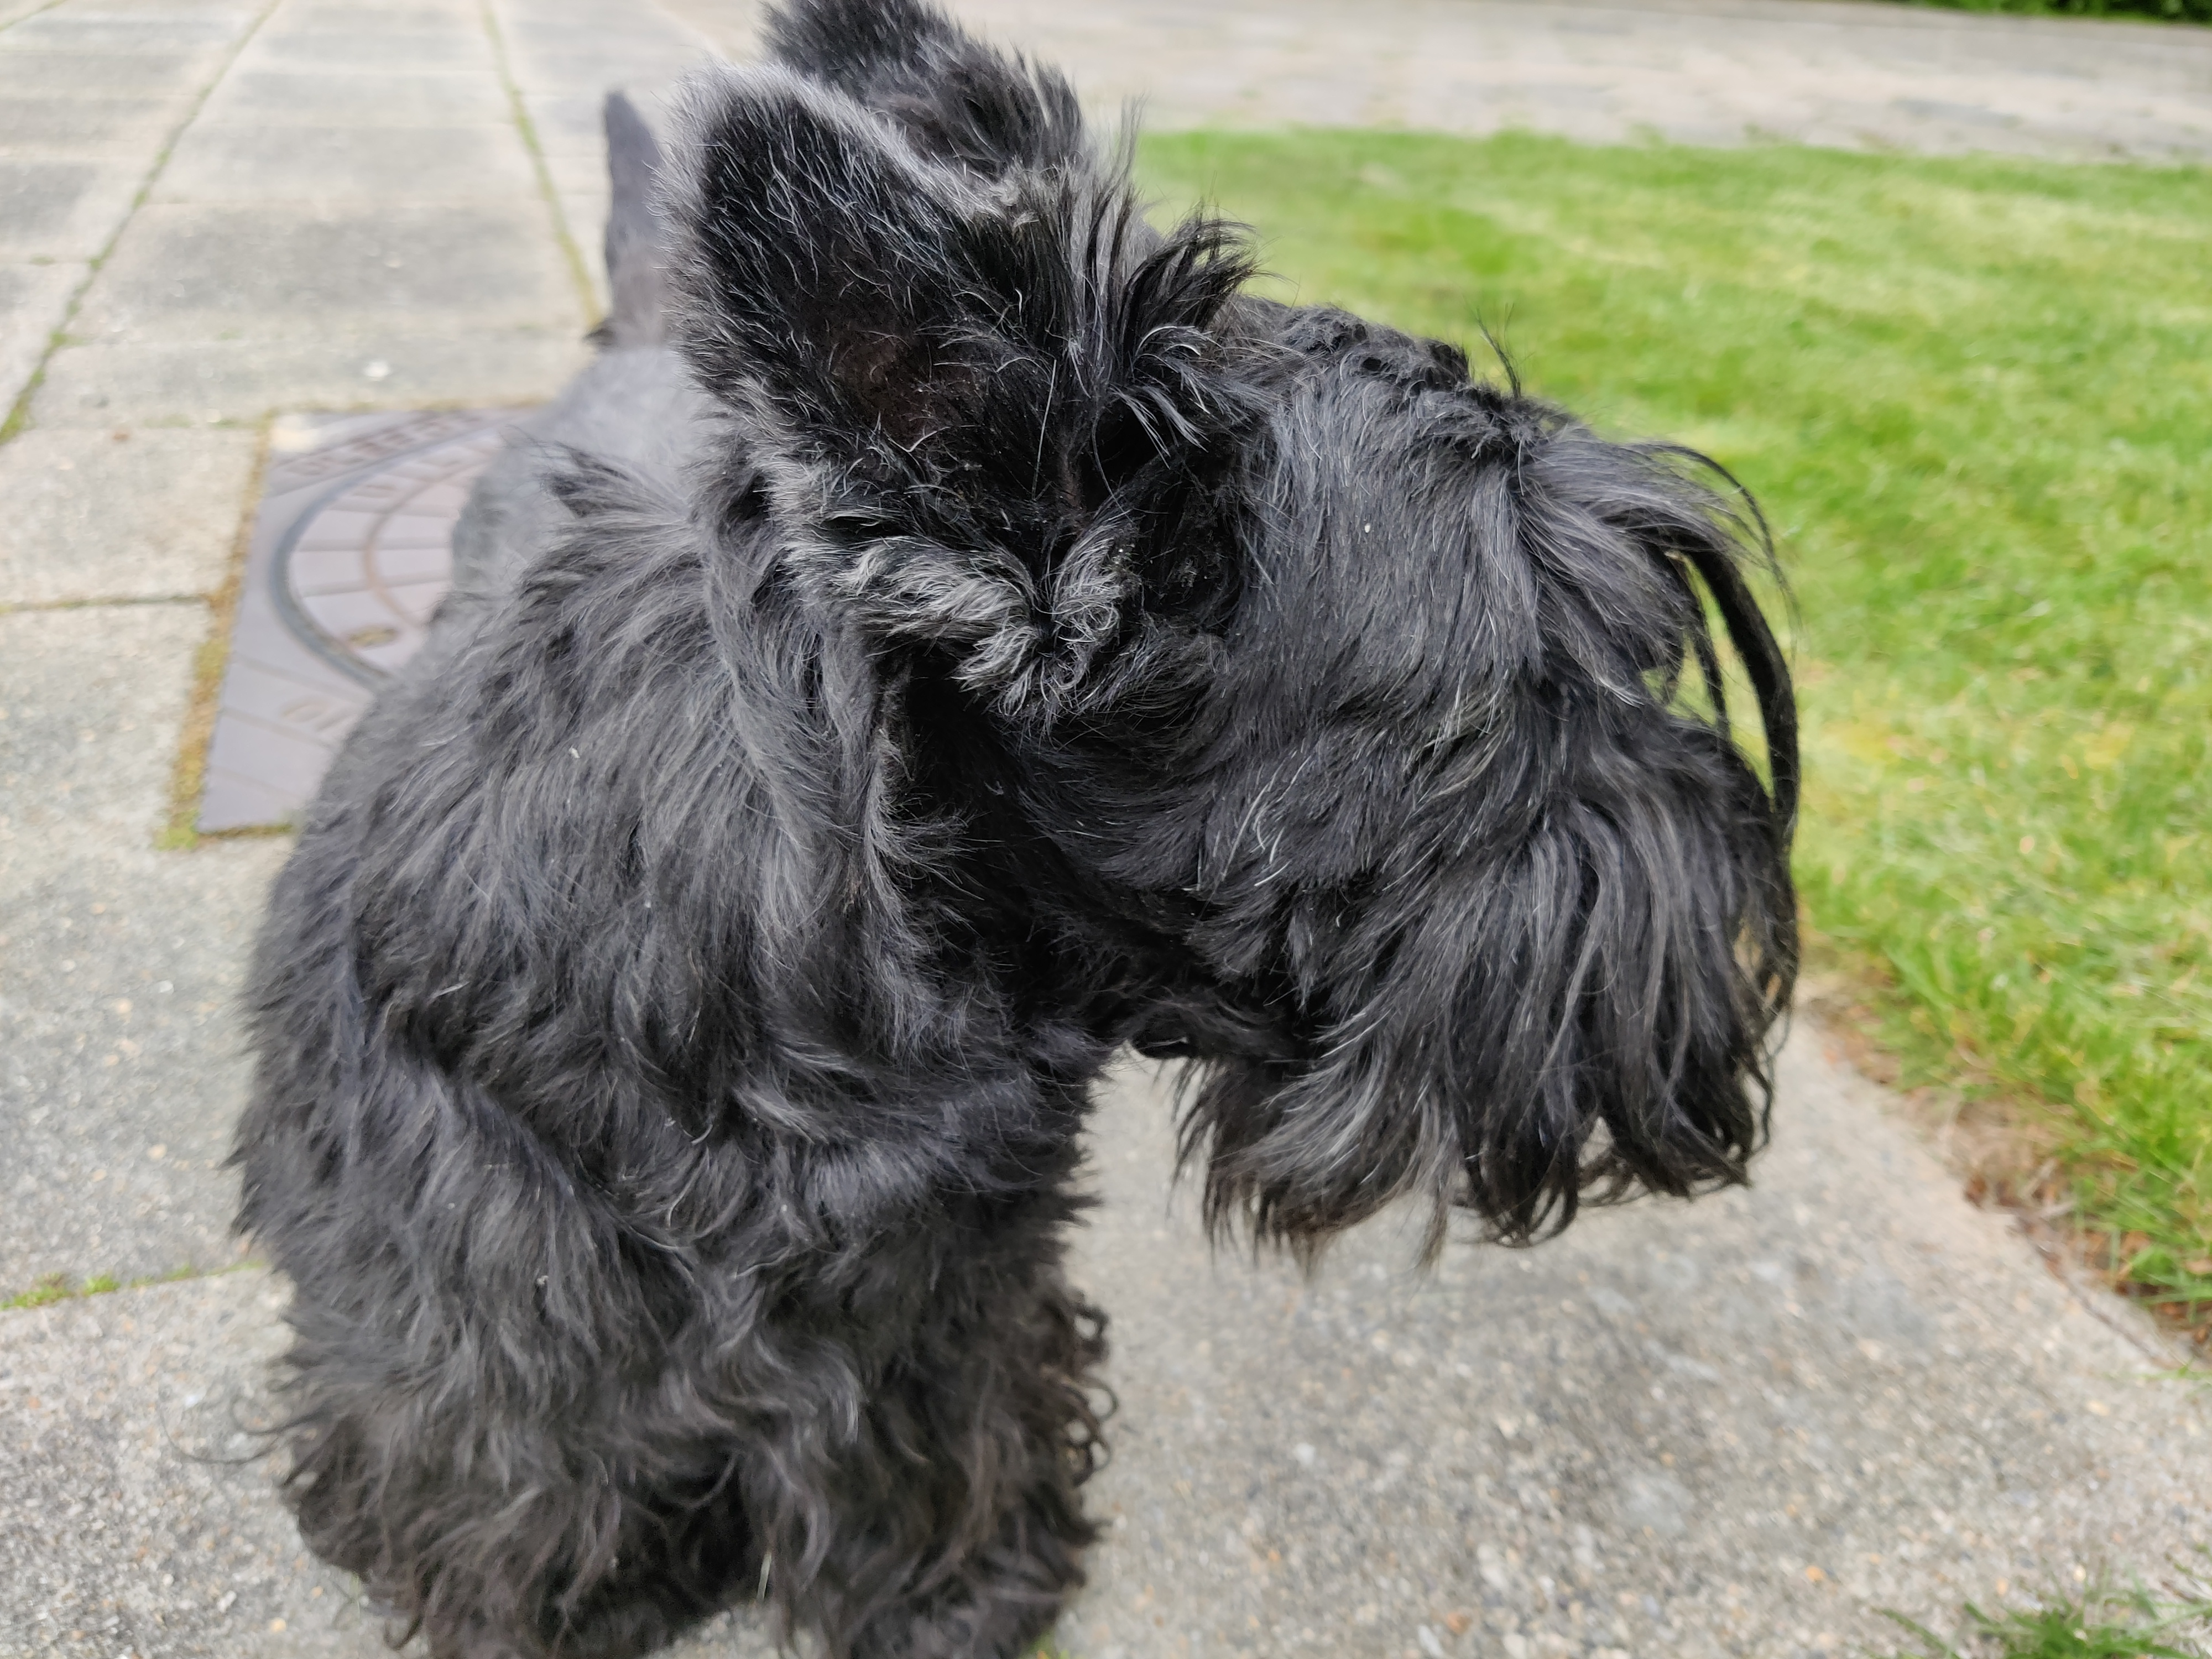Dog: (200, 0, 1834, 1659)
